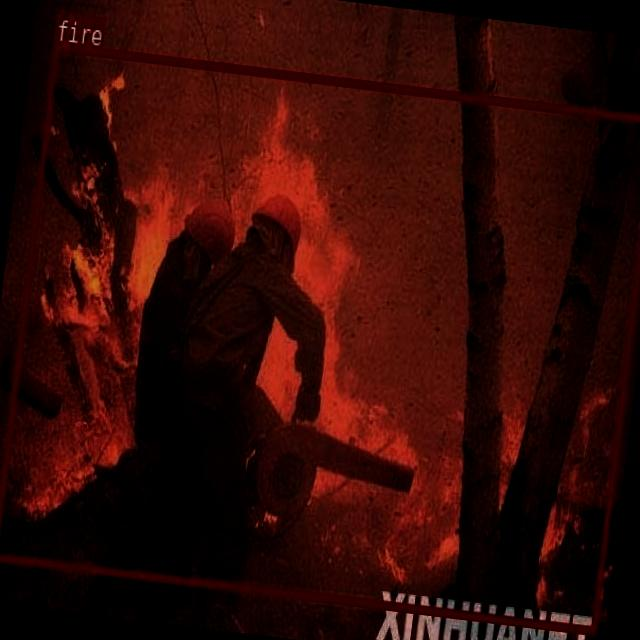fire: (0, 41, 640, 632)
